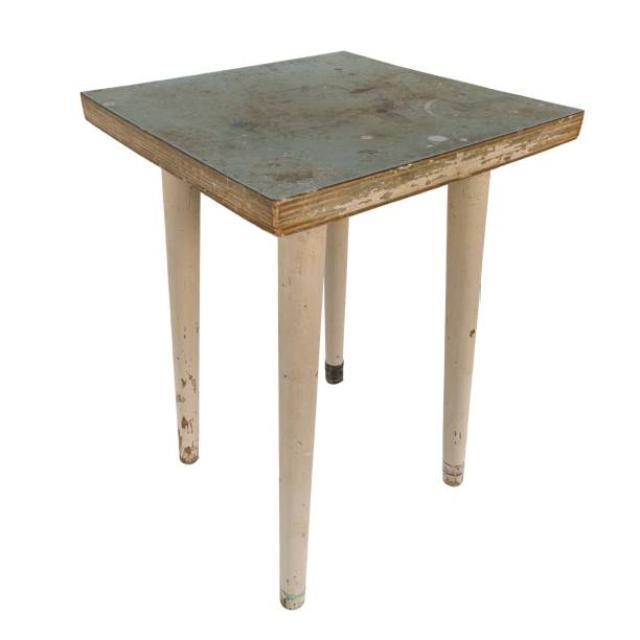table: (78, 48, 584, 610)
